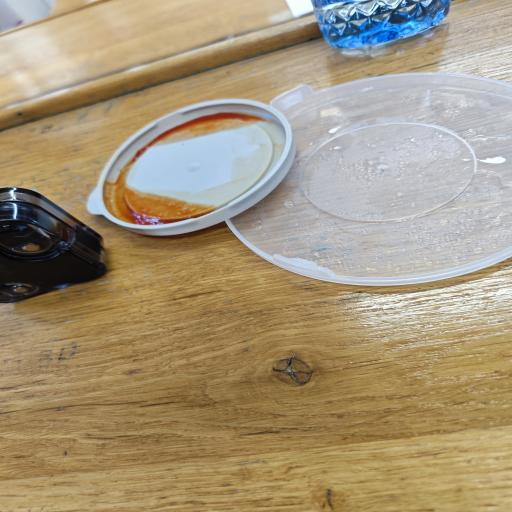CASTI: (2, 187, 116, 305)
